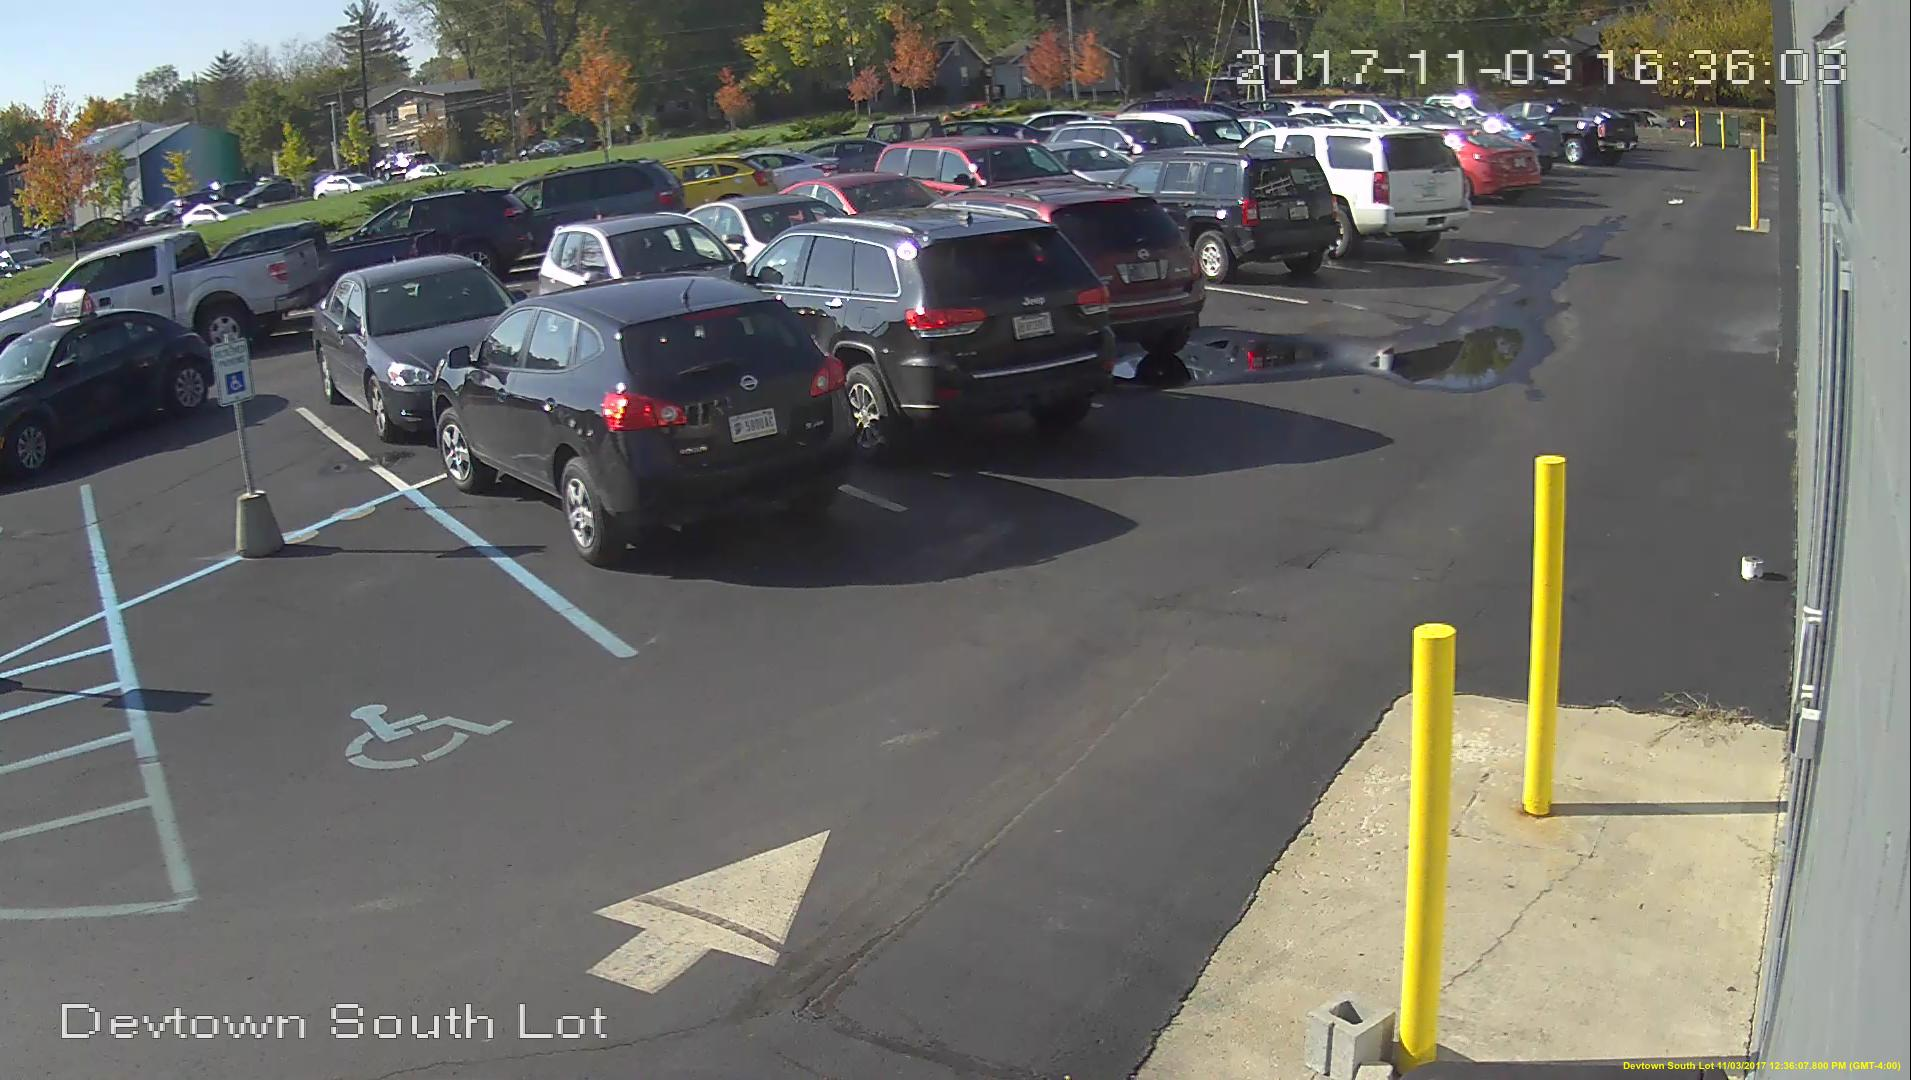jimmy_johns: (46, 289, 93, 325)
